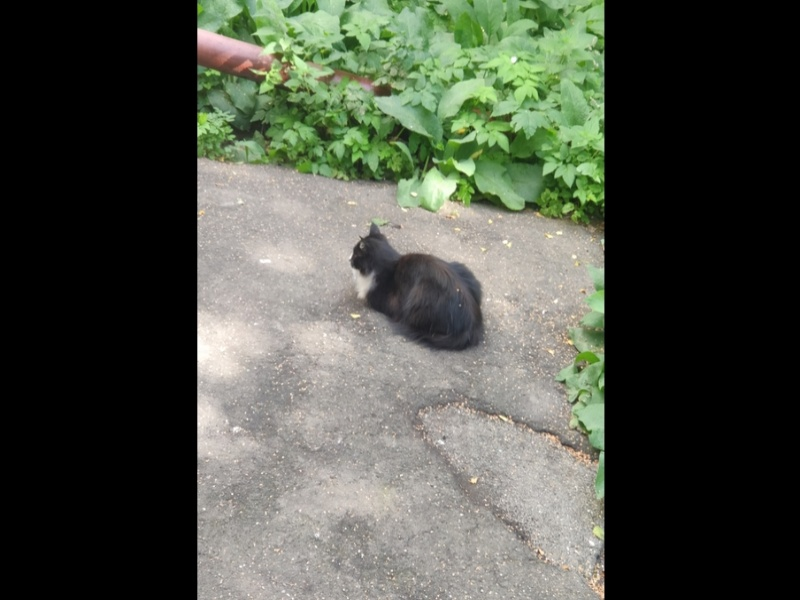cat: (346, 222, 489, 355)
